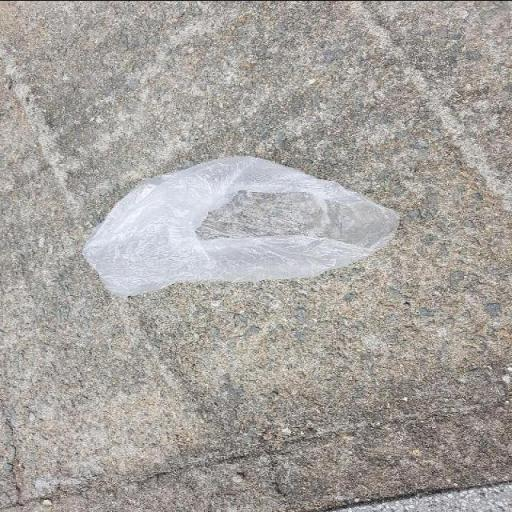plastic-bag: (79, 154, 406, 300)
